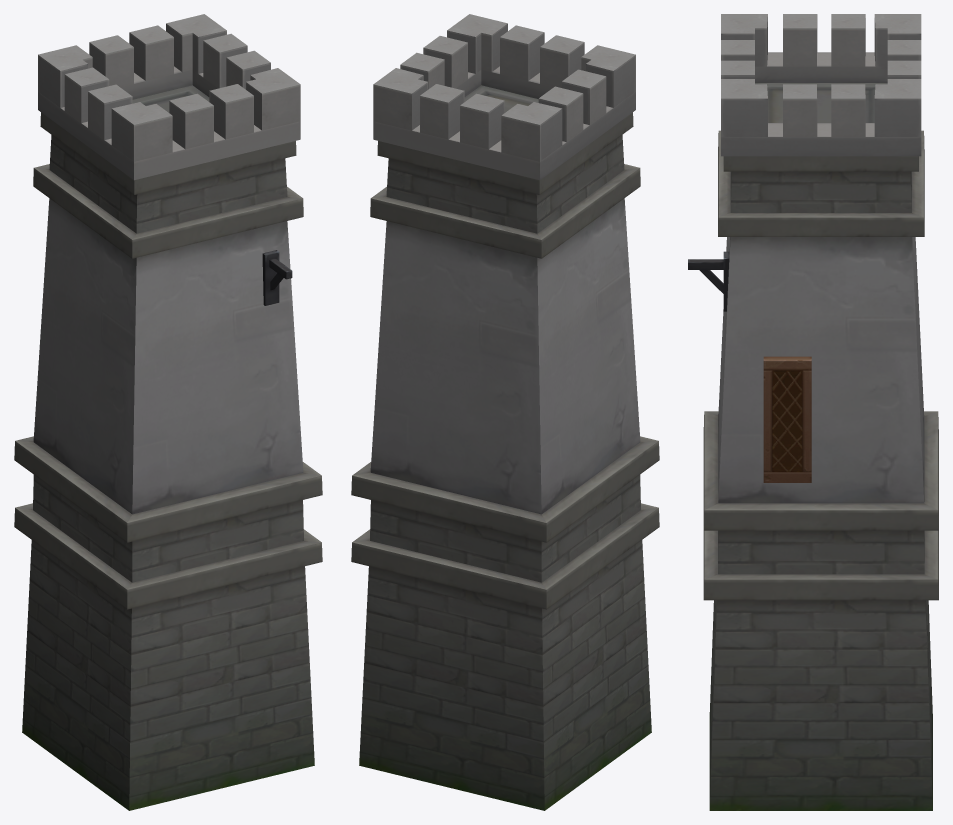
File: scene_luoliante_wall_05.FBX
The picture shows the model from 3 angles, left to right: view 1: azimuth 30°, elevation 25°; view 2: azimuth 150°, elevation 25°; view 3: azimuth 270°, elevation 25°; orthographic projection. The views are drawn at different scales.
Parts seen in each view (by area): view 1: scene_luoliante_wall_05; view 2: scene_luoliante_wall_05; view 3: scene_luoliante_wall_05.
Part boxes in pixels (left/top/right/bottom): scene_luoliante_wall_05: left=14, top=14, right=322, bottom=810; scene_luoliante_wall_05: left=351, top=14, right=659, bottom=810; scene_luoliante_wall_05: left=688, top=14, right=938, bottom=810.
Bounding box in the file's own units: 200 × 664 × 213.
